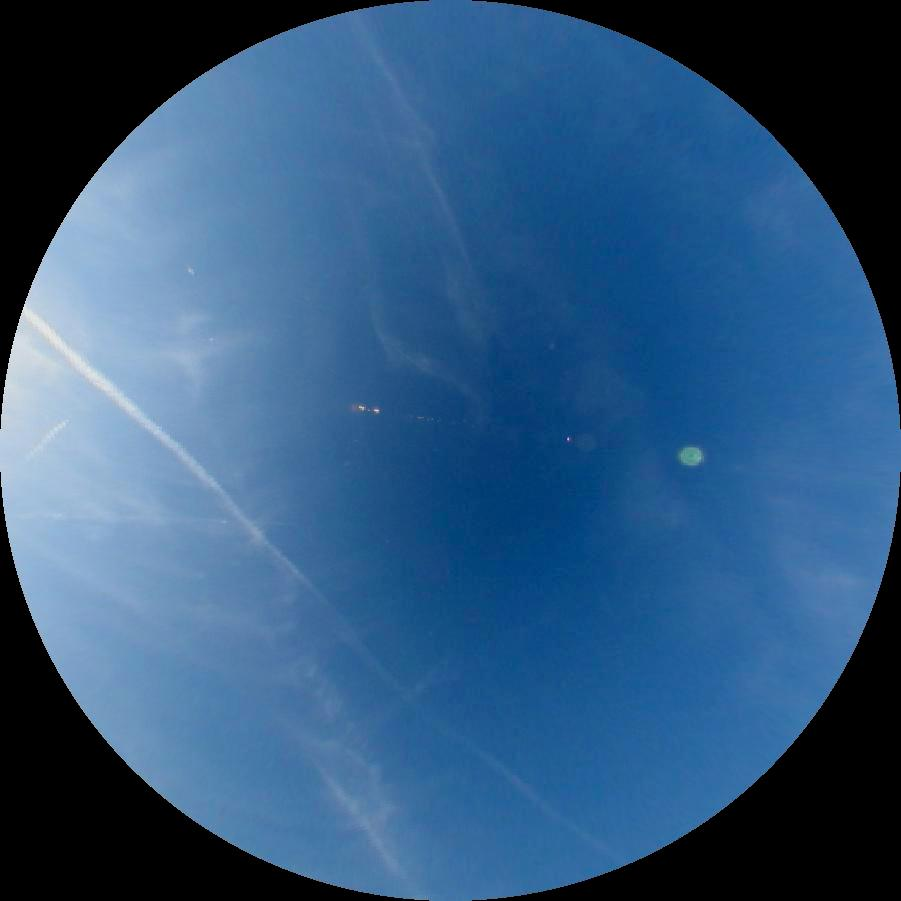contrail old: (7, 299, 624, 890)
contrail young: (16, 417, 73, 468)
unknow: (315, 763, 409, 883)
